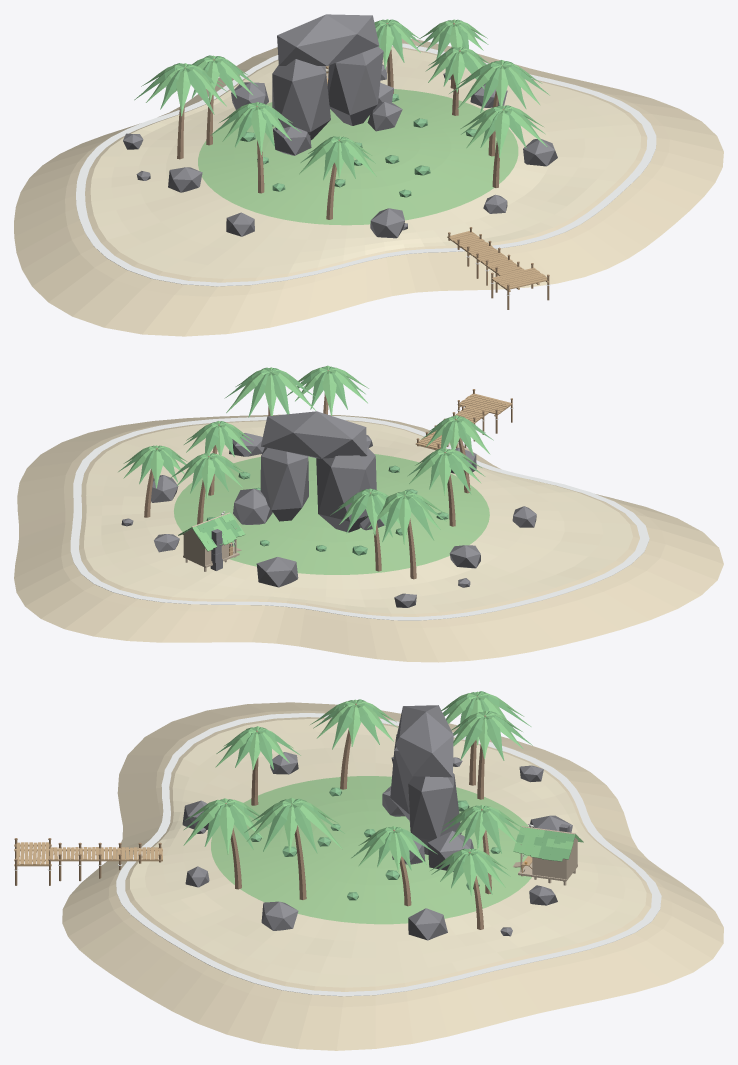
The model's file is island.glb.
3 renders of one model, top to bottom at view 1: azimuth 30°, elevation 25°; view 2: azimuth 150°, elevation 25°; view 3: azimuth 270°, elevation 25°, orthographic. The views are drawn at different scales.
Visible parts, largest first — view 1: Island_Base, Island_Rocks, Palm_Fronds, Island_Foam, Palm_Trunks, Dock_Planks, Island_Bushes, Dock_Posts; view 2: Island_Base, Island_Rocks, Palm_Fronds, Island_Foam, Palm_Trunks, Island_Hut_Walls, Dock_Planks, Island_Hut_Roof, Island_Bushes; view 3: Island_Base, Palm_Fronds, Island_Rocks, Island_Foam, Palm_Trunks, Dock_Planks, Island_Hut_Roof, Island_Hut_Walls, Island_Bushes, Dock_Posts.
Part boxes in pixels (x1,y1,x2,y2): Island_Base: (14,38,723,336); Island_Rocks: (123,14,557,238); Palm_Fronds: (134,19,549,179); Island_Foam: (76,43,656,295); Palm_Trunks: (177,23,504,219); Dock_Planks: (447,231,548,291); Island_Bushes: (240,94,476,197); Dock_Posts: (448,227,549,309); Island_Base: (14,414,723,662); Island_Rocks: (121,411,536,607); Palm_Fronds: (118,365,493,544); Island_Foam: (70,407,649,620); Palm_Trunks: (144,370,470,579); Island_Hut_Walls: (182,512,241,571); Dock_Planks: (415,393,512,450); Island_Hut_Roof: (178,513,245,551); Island_Bushes: (206,465,448,555); Island_Base: (62,702,723,1050); Palm_Fronds: (183,691,532,895); Island_Rocks: (182,705,572,940); Island_Foam: (14,713,661,996); Palm_Trunks: (225,696,491,929); Dock_Planks: (14,842,162,866); Island_Hut_Roof: (513,827,583,861); Island_Hut_Walls: (513,824,578,885); Island_Bushes: (250,787,500,900); Dock_Posts: (14,838,161,885).
Bounding box in the file's own units: 289 × 64.48 × 249.
